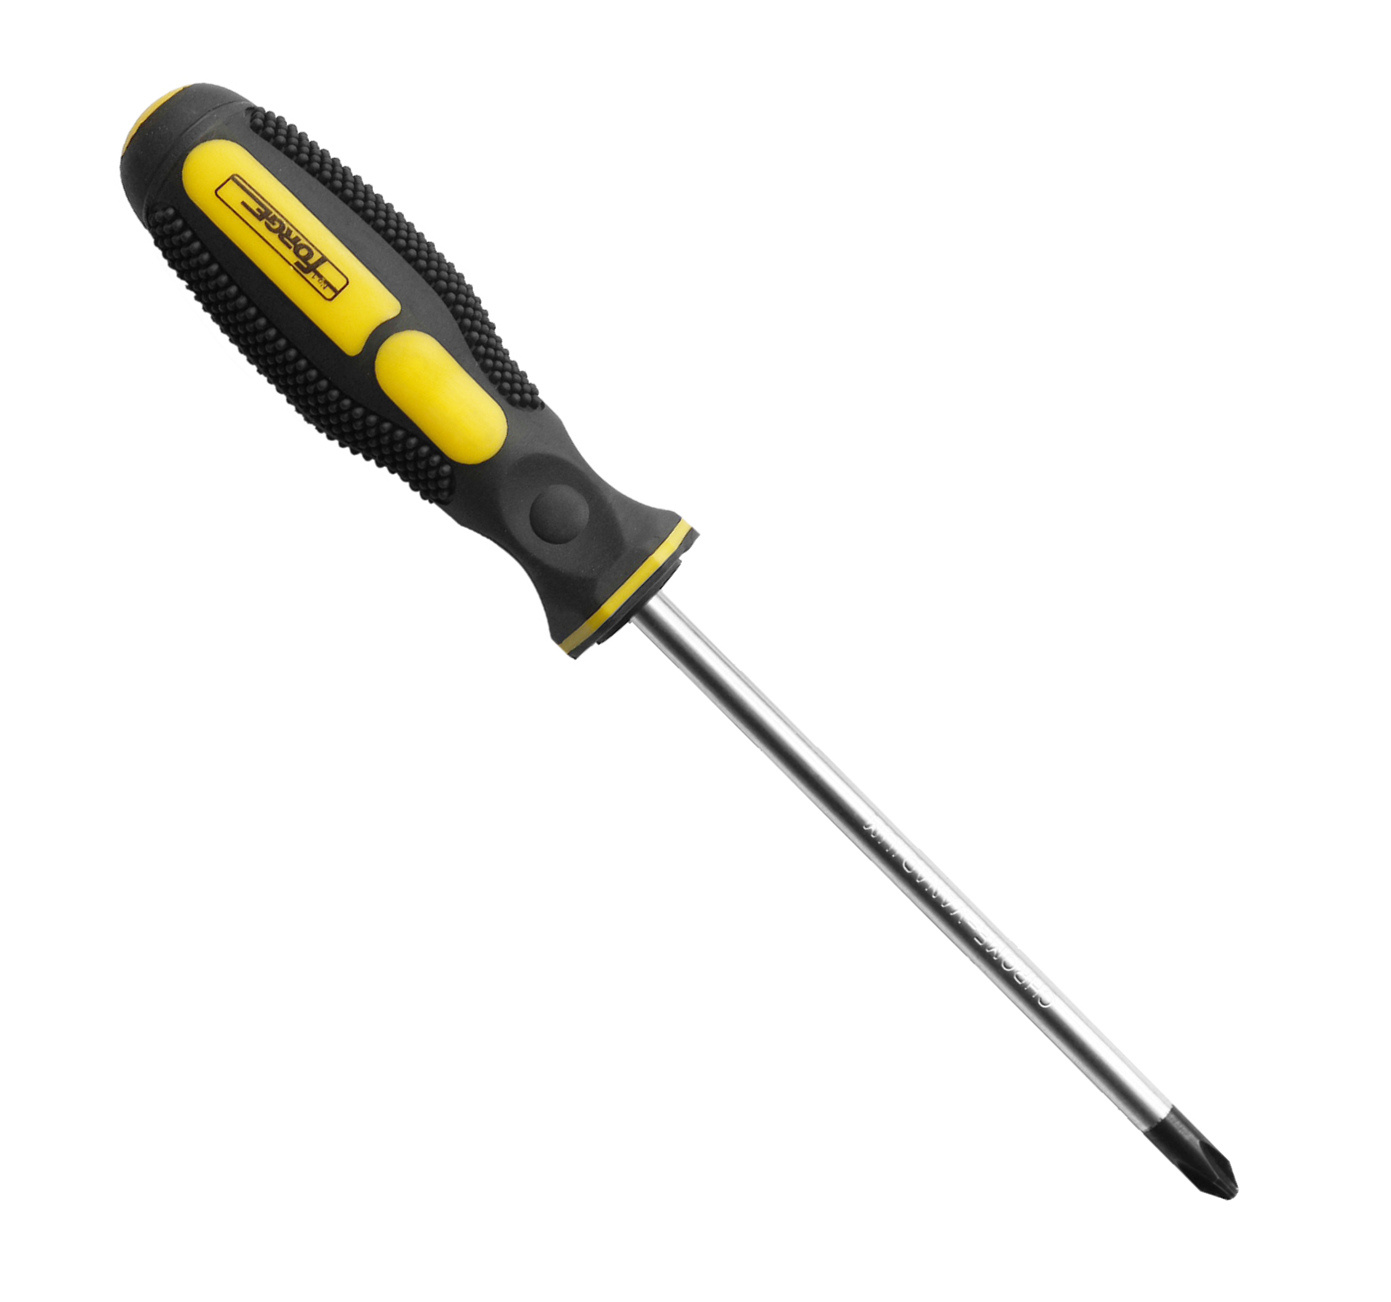screwdriver: (119, 84, 1245, 1205)
